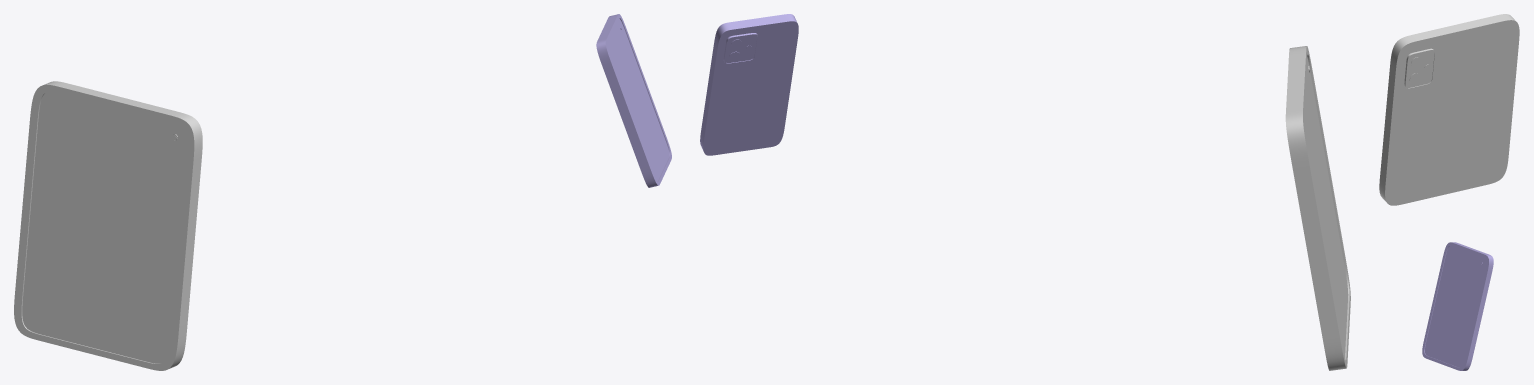
File: iphone12.gltf
The picture shows the model from 3 angles, left to right: view 1: azimuth 30°, elevation 25°; view 2: azimuth 150°, elevation 25°; view 3: azimuth 270°, elevation 25°; orthographic projection. The views are drawn at different scales.
Visible parts, largest first — view 1: Cube.003, Cube; view 2: Cube, Cube.003; view 3: Cube.003, Cube.
Part boxes in pixels (left/top/right/bottom): Cube.003: left=14, top=81, right=202, bottom=370; Cube: left=596, top=14, right=671, bottom=187; Cube: left=700, top=14, right=798, bottom=155; Cube.003: left=1285, top=46, right=1350, bottom=370; Cube.003: left=1379, top=14, right=1519, bottom=205; Cube: left=1422, top=242, right=1493, bottom=370.
Size of the model in its own units: 0.9421 by 0.3425 by 0.2466.
